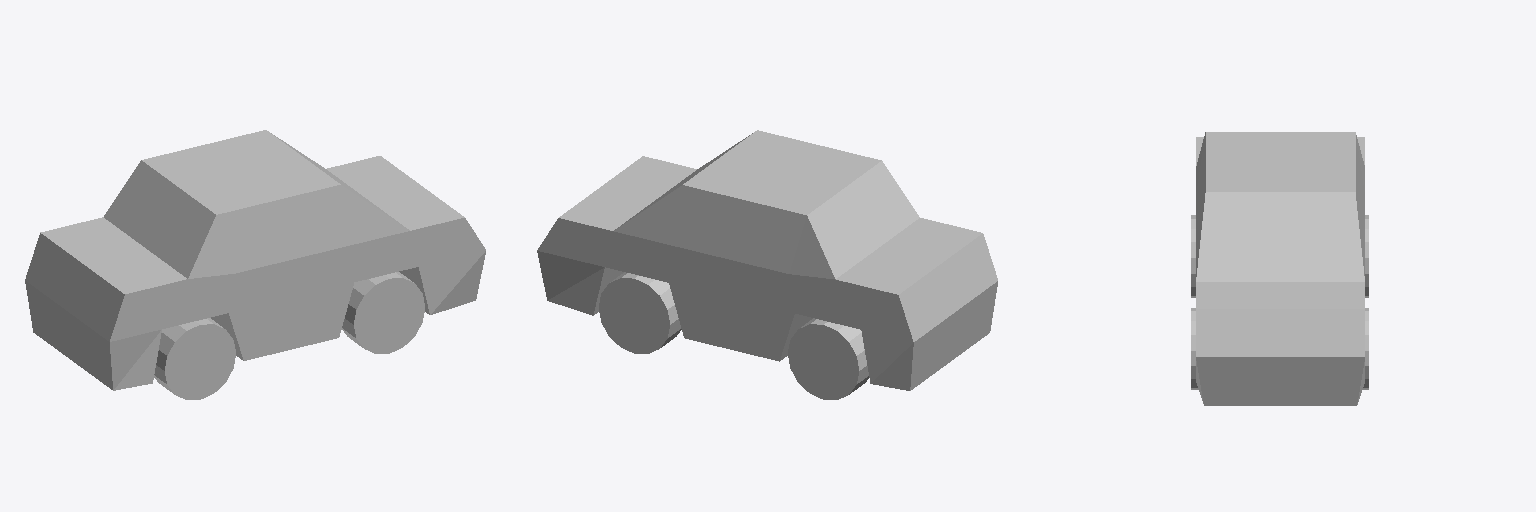
File: car.obj
3 views of the same model, side by side, from view 1: azimuth 30°, elevation 25°; view 2: azimuth 150°, elevation 25°; view 3: azimuth 270°, elevation 25° (orthographic).
Parts seen in each view (by area): view 1: Box001; view 2: Box001; view 3: Box001.
Boxes of the visible parts, box(x1,y1,x2,y2) form: Box001: box(25, 130, 485, 399); Box001: box(537, 130, 997, 399); Box001: box(1191, 132, 1368, 405).
Size of the model in its own units: 207 by 91.14 by 84.35.